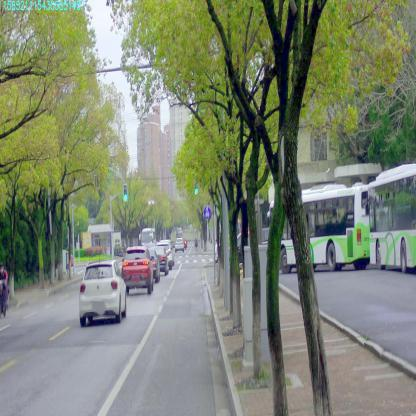traffic-light: (123, 184, 127, 202), (194, 177, 198, 194)
